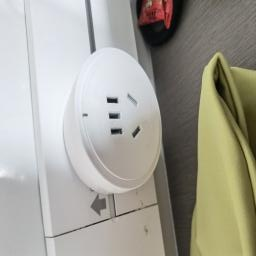outlet: (57, 41, 164, 209)
